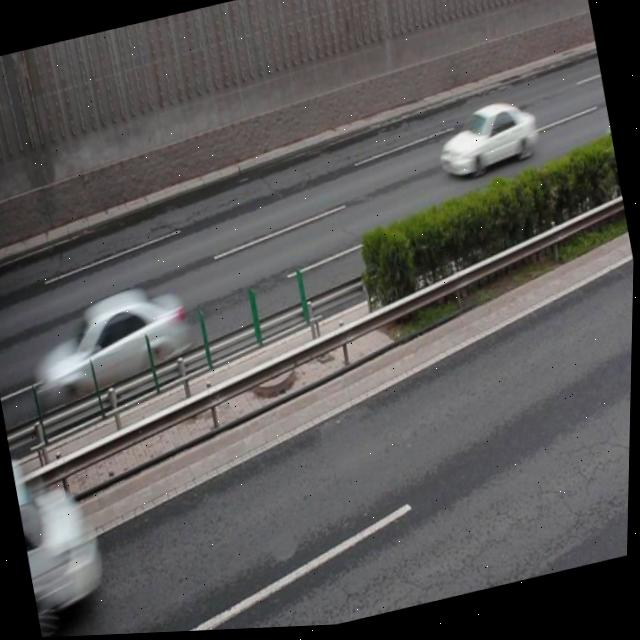car: (23, 274, 199, 411), (430, 98, 543, 188)
